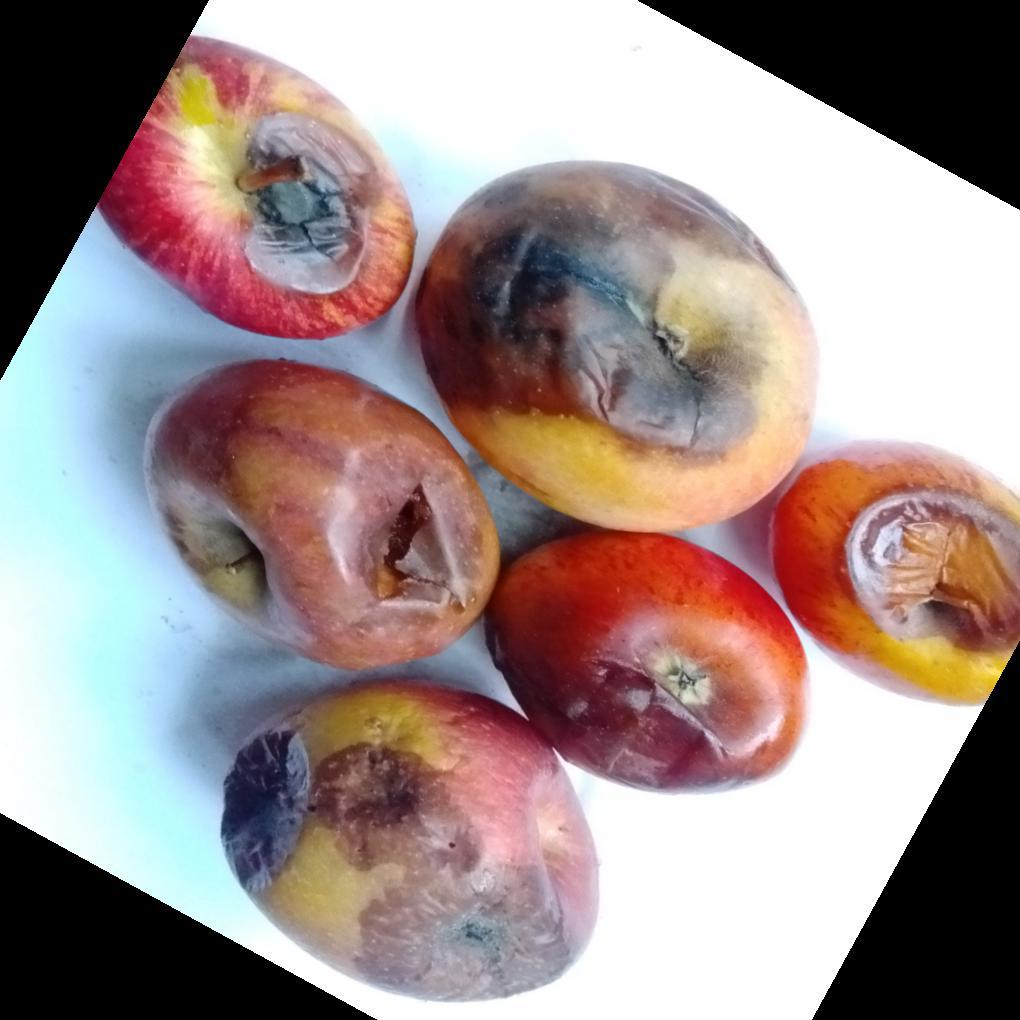FreshOrange: (119, 30, 1020, 1005)
